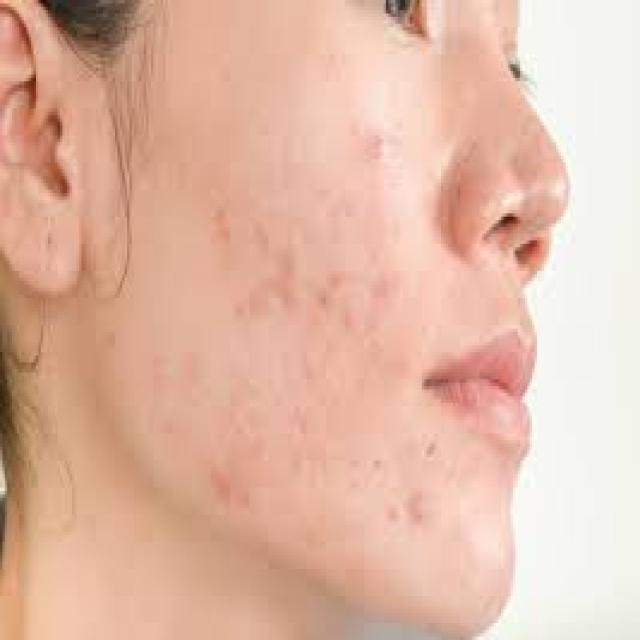Acne: (188, 172, 441, 532)
Oily-Skin: (350, 108, 398, 176)
